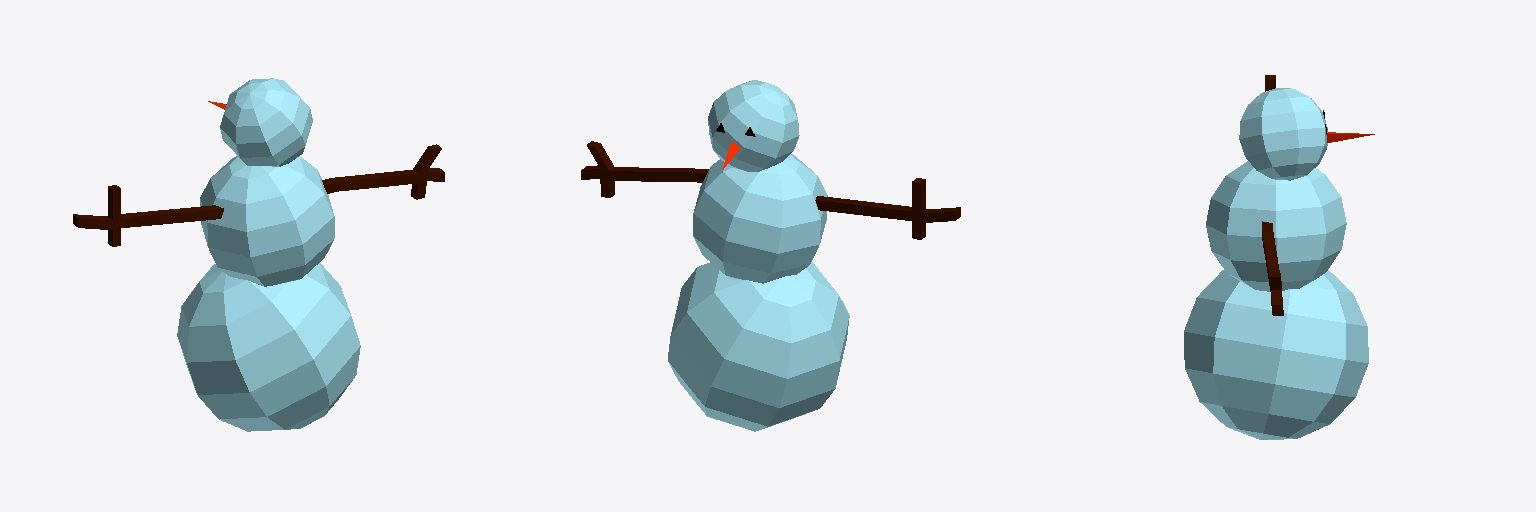
Rendered from snowman.obj.
3 renders of one model, left to right at view 1: azimuth 30°, elevation 25°; view 2: azimuth 150°, elevation 25°; view 3: azimuth 270°, elevation 25°, orthographic.
Parts seen in each view (by area): view 1: Sphere, Sphere.001, Sphere.002, Cube_Cube.001; view 2: Sphere, Sphere.001, Sphere.002, Cube_Cube.001; view 3: Sphere, Sphere.001, Sphere.002, Cube_Cube.001.
Part boxes in pixels (x1,y1,x2,y2): Sphere: (177,263,360,431); Sphere.001: (200,156,334,286); Sphere.002: (220,78,312,166); Cube_Cube.001: (73,144,444,246); Sphere: (668,262,849,431); Sphere.001: (693,154,827,283); Sphere.002: (708,80,799,171); Cube_Cube.001: (581,141,960,239); Sphere: (1184,270,1368,439); Sphere.001: (1206,161,1346,291); Sphere.002: (1239,88,1327,180); Cube_Cube.001: (1262,75,1283,315).
Bounding box in the file's own units: 1.87 × 1.64 × 0.8403.